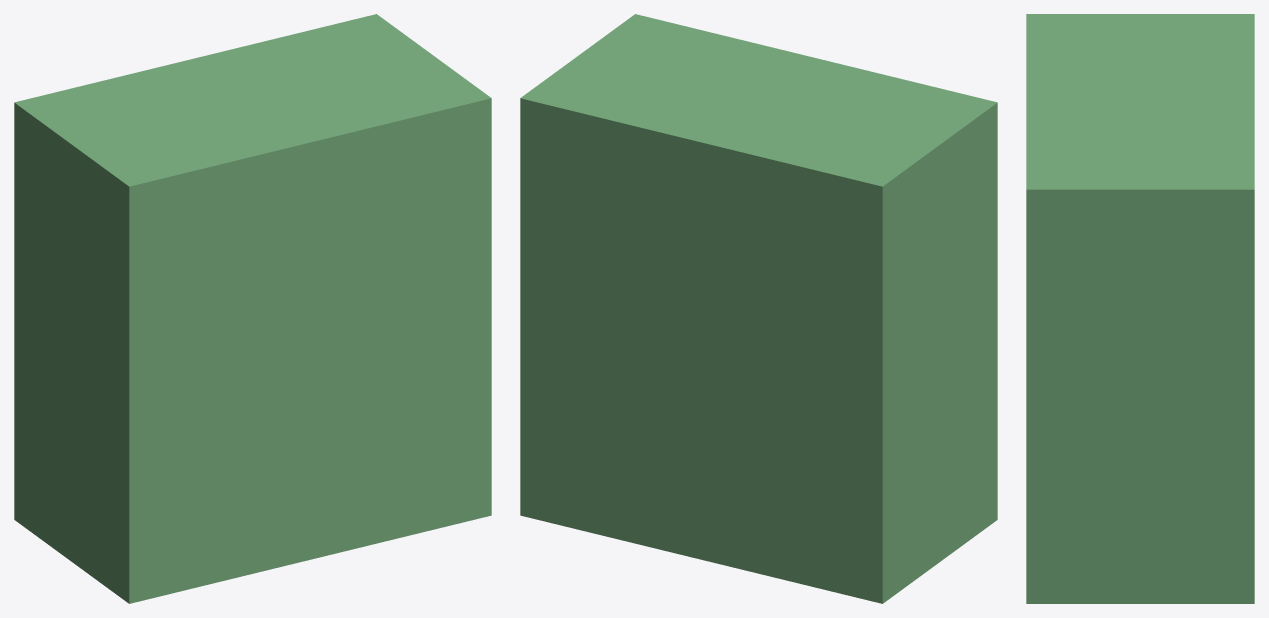
The model's file is fence_hedge_straight.glb.
3 views of the same model, side by side, from view 1: azimuth 30°, elevation 25°; view 2: azimuth 150°, elevation 25°; view 3: azimuth 270°, elevation 25° (orthographic).
Parts seen in each view (by area): view 1: fence_hedge_straight; view 2: fence_hedge_straight; view 3: fence_hedge_straight.
Part boxes in pixels (left/top/right/bottom): fence_hedge_straight: left=14, top=14, right=491, bottom=603; fence_hedge_straight: left=520, top=14, right=997, bottom=603; fence_hedge_straight: left=1026, top=14, right=1254, bottom=603.
Size of the model in its own units: 1 by 1.1 by 0.55.
